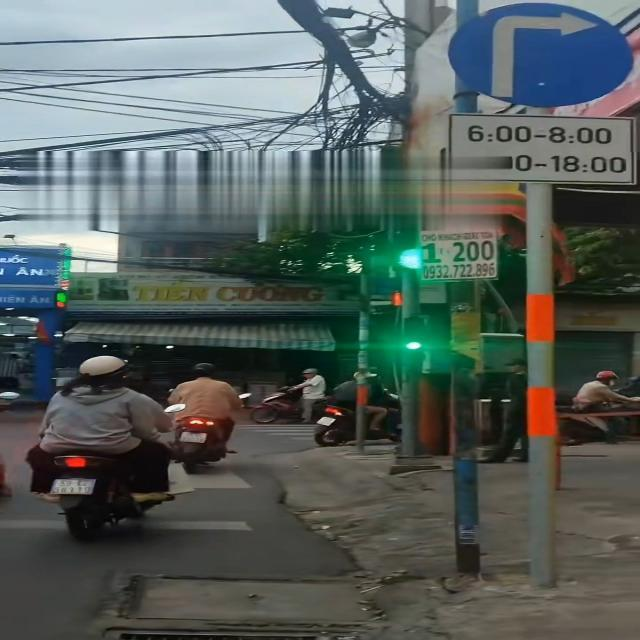301d-cac-xe-chi-duoc-re-phai-2: (450, 2, 640, 106)
